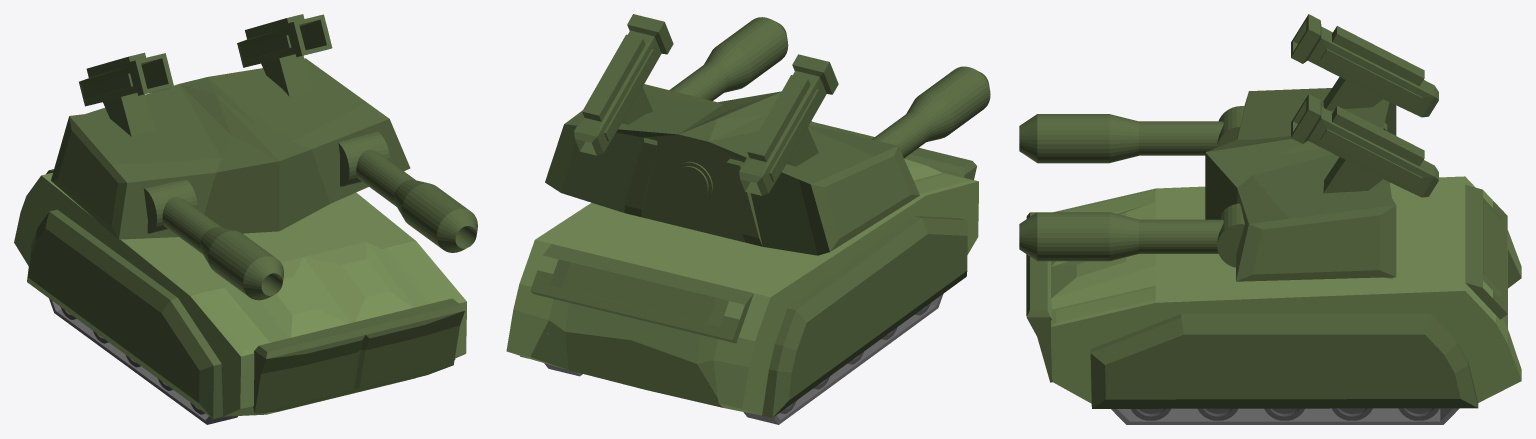
Rendered from tier3.fbx.
The picture shows the model from 3 angles, left to right: view 1: azimuth 30°, elevation 25°; view 2: azimuth 150°, elevation 25°; view 3: azimuth 270°, elevation 25°; orthographic projection. The views are drawn at different scales.
Parts seen in each view (by area): view 1: Body12, Turret12, Main Gun12, Tracks12; view 2: Body12, Turret12, Main Gun12, Tracks12; view 3: Body12, Turret12, Main Gun12, Tracks12, Road Wheels12.
Boxes of the visible parts, <box> form: Body12: <box>14,169,466,418</box>; Turret12: <box>51,14,410,239</box>; Main Gun12: <box>143,131,477,300</box>; Tracks12: <box>49,298,237,424</box>; Body12: <box>506,122,978,417</box>; Turret12: <box>545,14,919,255</box>; Main Gun12: <box>669,17,990,158</box>; Tracks12: <box>544,294,943,424</box>; Body12: <box>1026,176,1521,408</box>; Turret12: <box>1205,14,1438,281</box>; Main Gun12: <box>1019,106,1244,267</box>; Tracks12: <box>1111,408,1459,424</box>; Road Wheels12: <box>1130,408,1439,420</box>.
Bounding box in the file's own units: 465 × 451 × 668.
